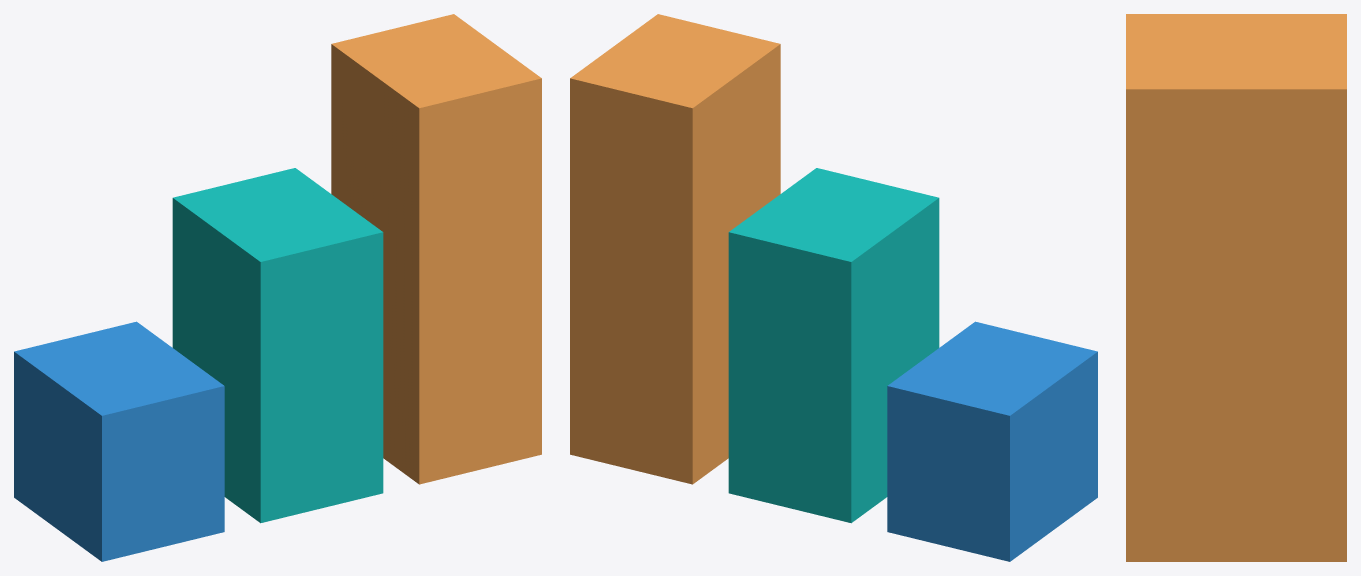
Rendered from demo-index-model.glb.
3 views of the same model, side by side, from view 1: azimuth 30°, elevation 25°; view 2: azimuth 150°, elevation 25°; view 3: azimuth 270°, elevation 25° (orthographic). The views are drawn at different scales.
Parts seen in each view (by area): view 1: Index bar 3, Index bar 2, Index bar 1; view 2: Index bar 3, Index bar 2, Index bar 1; view 3: Index bar 3.
Boxes of the visible parts, x1,y1,x2,y2 form: Index bar 3: [331, 14, 541, 484]; Index bar 2: [172, 168, 383, 523]; Index bar 1: [14, 321, 224, 561]; Index bar 3: [570, 14, 780, 484]; Index bar 2: [728, 168, 939, 523]; Index bar 1: [887, 321, 1097, 561]; Index bar 3: [1126, 14, 1346, 561].
Size of the model in its own units: 2.08 by 1.7 by 0.72.
